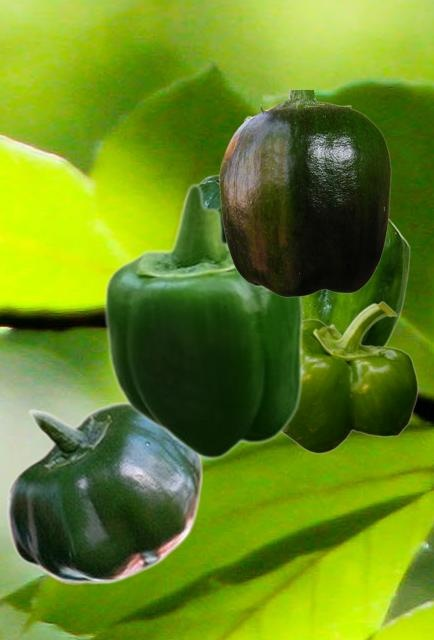bell_pepper: (103, 182, 303, 460), (5, 401, 202, 583), (219, 90, 390, 296), (283, 301, 417, 453), (304, 218, 409, 344), (199, 115, 251, 238)
